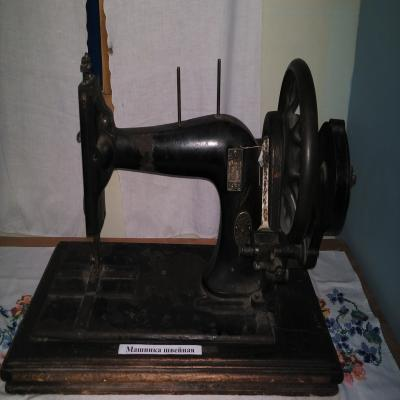technique: (0, 52, 356, 399)
